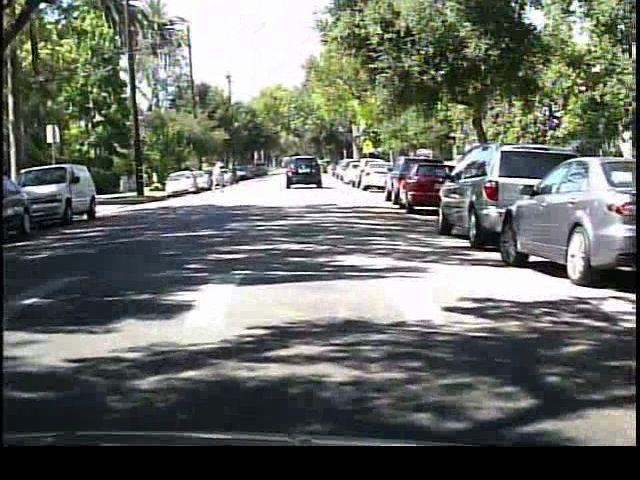person: (208, 156, 229, 196)
